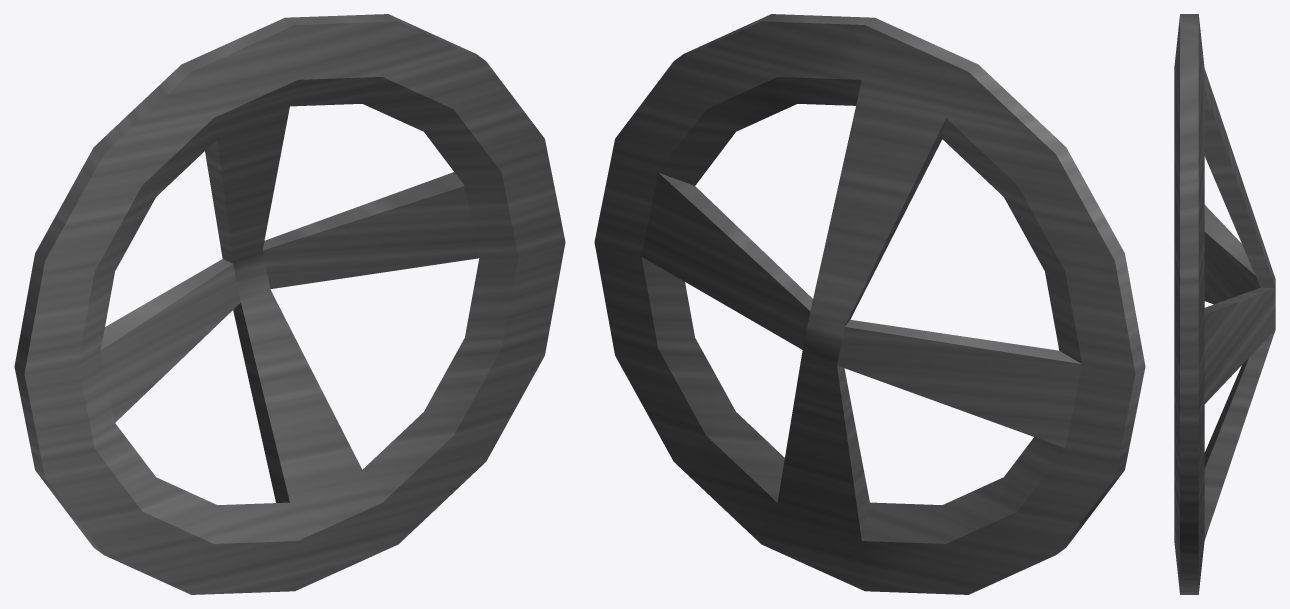
Rendered from valve.fbx.
3 views of the same model, side by side, from view 1: azimuth 30°, elevation 25°; view 2: azimuth 150°, elevation 25°; view 3: azimuth 270°, elevation 25° (orthographic). The views are drawn at different scales.
Visible parts, largest first — view 1: Valve; view 2: Valve; view 3: Valve.
Part boxes in pixels (x1,y1,x2,y2): Valve: (14,14,565,594); Valve: (594,14,1145,594); Valve: (1174,14,1275,594).
Size of the model in its own units: 1.57 by 1.57 by 0.2731.
